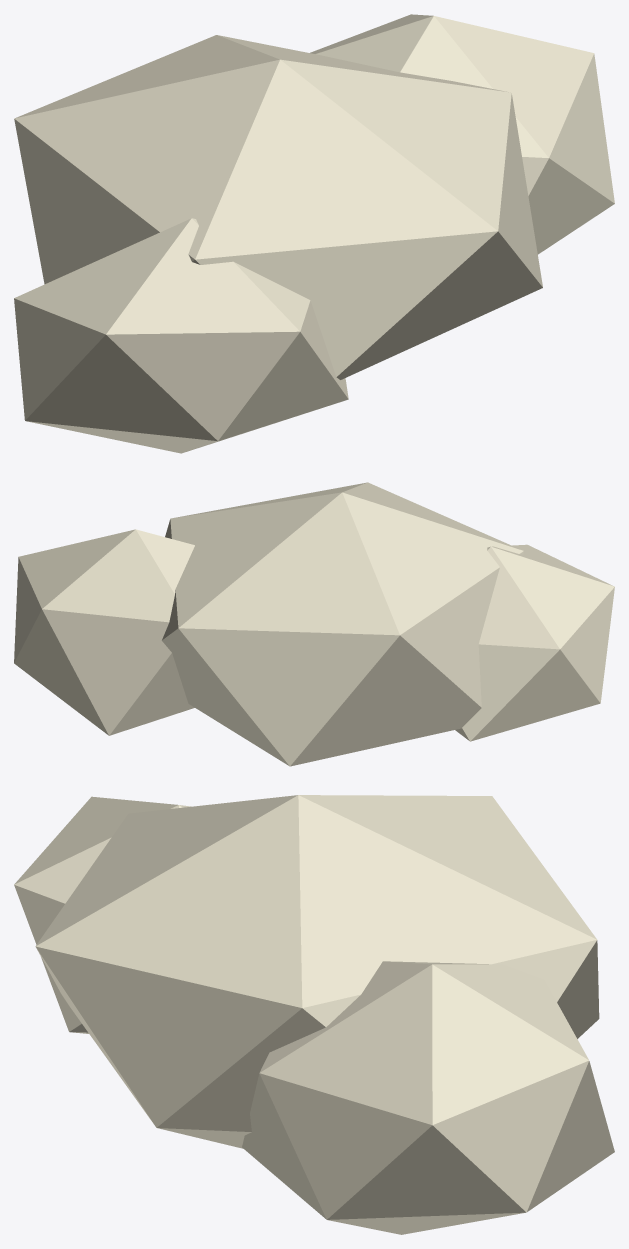
Rendered from env_bush.glb.
The picture shows the model from 3 angles, top to bottom: view 1: azimuth 30°, elevation 25°; view 2: azimuth 150°, elevation 25°; view 3: azimuth 270°, elevation 25°; orthographic projection. The views are drawn at different scales.
Parts seen in each view (by area): view 1: tint_leaf; view 2: tint_leaf; view 3: tint_leaf.
Boxes of the visible parts, left/top/right/bottom form: tint_leaf: left=14, top=14, right=614, bottom=453; tint_leaf: left=14, top=482, right=614, bottom=766; tint_leaf: left=14, top=795, right=614, bottom=1234.
Bounding box in the file's own units: 1.95 × 0.9419 × 1.43.
1 material, 1 textured.
